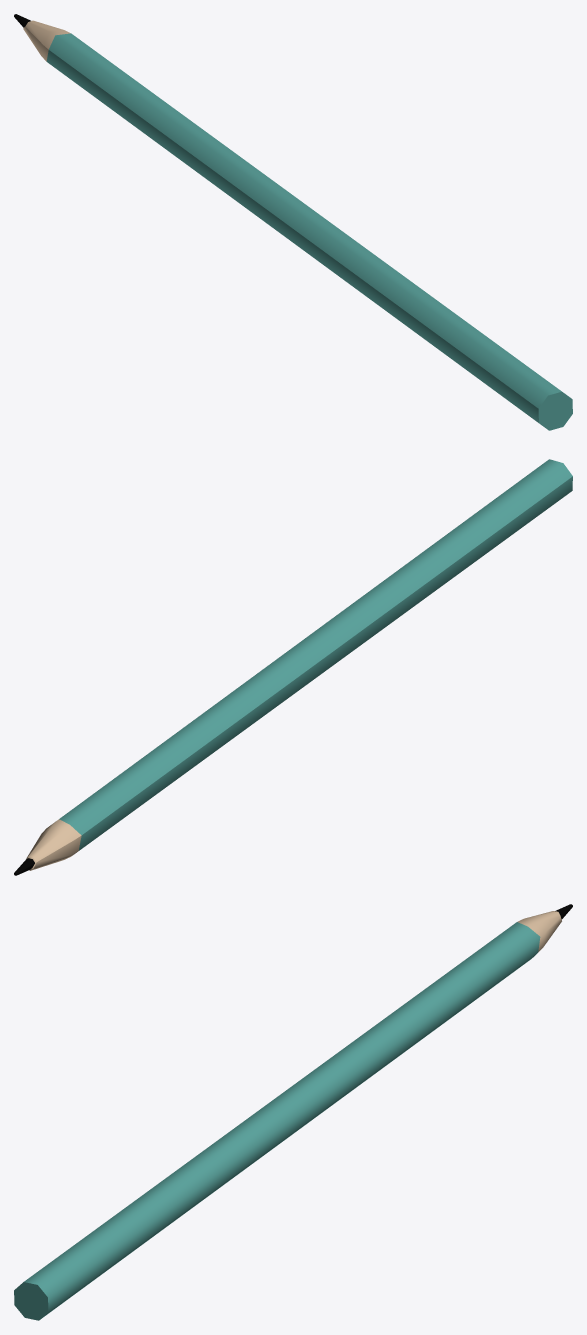
File: pencil_mint.fbx
3 renders of one model, top to bottom at view 1: azimuth 30°, elevation 25°; view 2: azimuth 150°, elevation 25°; view 3: azimuth 330°, elevation 25°, orthographic.
Parts seen in each view (by area): view 1: pencil_mint; view 2: pencil_mint; view 3: pencil_mint.
Part boxes in pixels (x1=…): pencil_mint: x1=14, y1=14, x2=572, y2=430; pencil_mint: x1=14, y1=459, x2=572, y2=875; pencil_mint: x1=14, y1=904, x2=572, y2=1320.
Bounding box in the file's own units: 61.43 × 61.43 × 1667.
